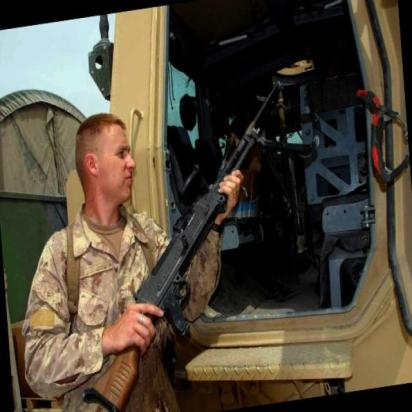Gun: (121, 77, 306, 401)
